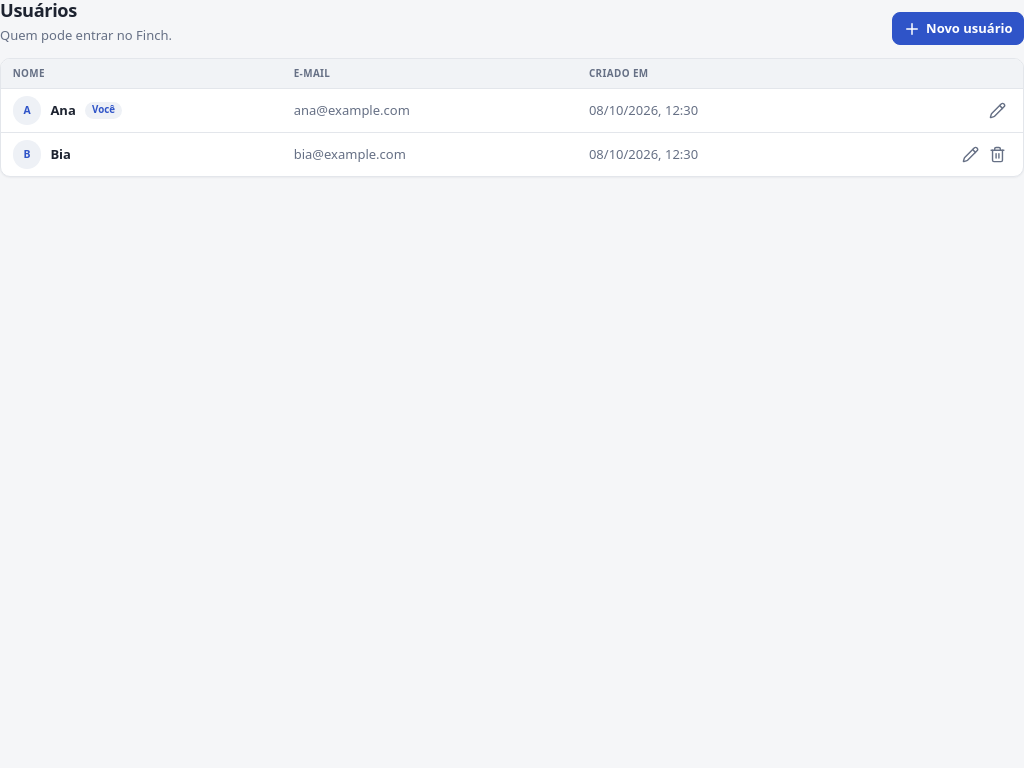
Test: UsersPage › keeps the form open and shows the server errors when saving fails
The image size is (1024, 768).
Expected: the text "bia@example.com" is shown, left=282, top=133, right=577, bottom=176
Expected: the text "Você" is shown, left=85, top=102, right=122, bottom=119
Step 1. Click the button named "Editar Bia" → [970, 154], box left=957, top=141, right=984, bottom=168
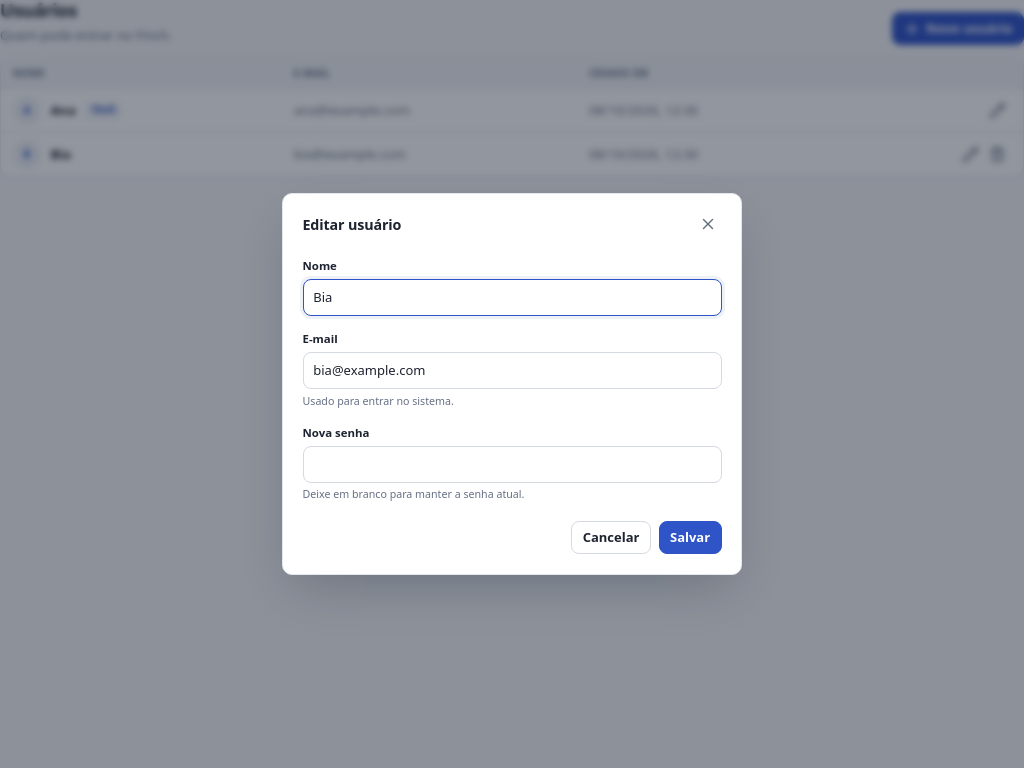
Step 2. Click the button "Salvar" → [690, 538], box left=659, top=521, right=722, bottom=554
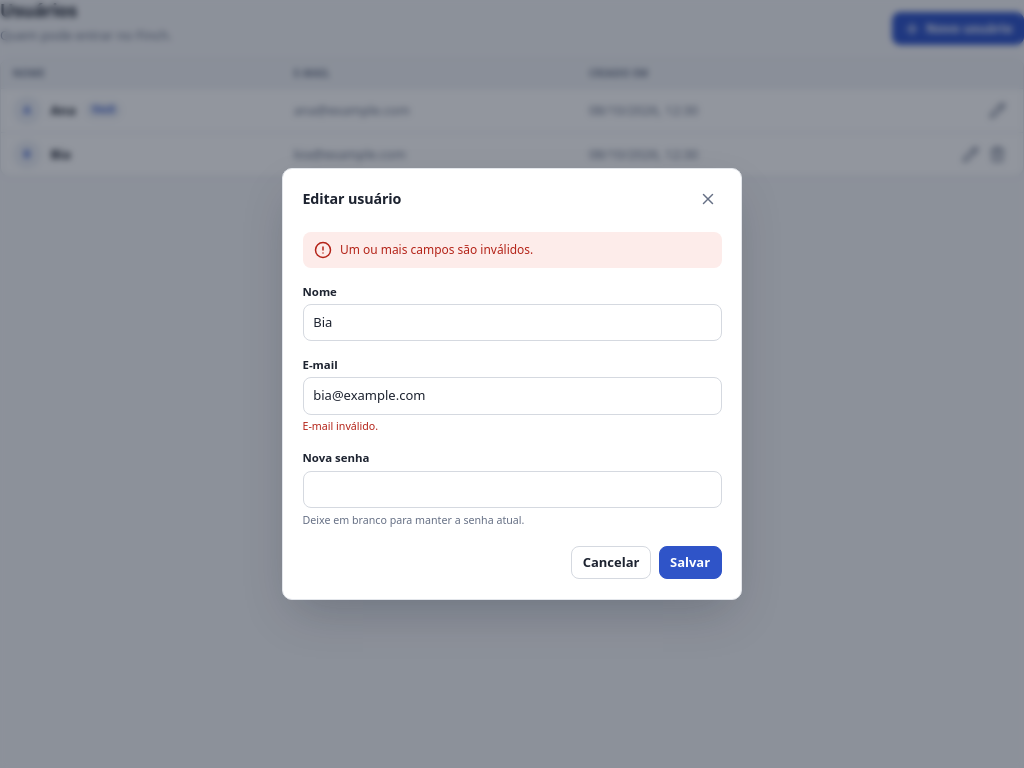
Expected: the button "Salvar" is enabled, left=659, top=546, right=722, bottom=579
Expected: the message reads "Um ou mais campos são inválidos.", left=340, top=241, right=533, bottom=258
Expected: the text "E-mail inválido." is shown, left=302, top=419, right=378, bottom=433
